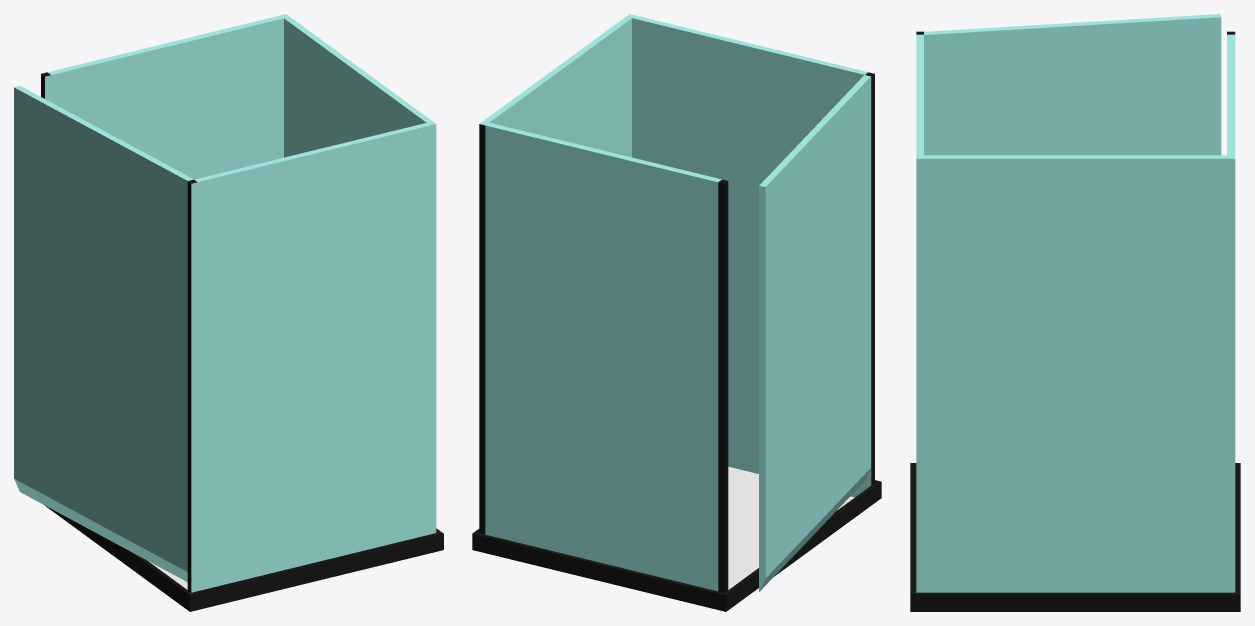
Rendered from boxpais.fbx.
3 renders of one model, left to right at view 1: azimuth 30°, elevation 25°; view 2: azimuth 150°, elevation 25°; view 3: azimuth 270°, elevation 25°, orthographic. The views are drawn at different scales.
Parts seen in each view (by area): view 1: Box, Portabox; view 2: Box, Portabox; view 3: Box, Portabox.
Part boxes in pixels (x1,y1,x2,y2): Box: (41,14,443,611); Portabox: (14,85,193,581); Box: (472,14,881,611); Portabox: (759,75,870,591); Box: (910,31,1240,611); Portabox: (924,14,1221,155).
Bounding box in the file's own units: 366 × 524 × 348.
